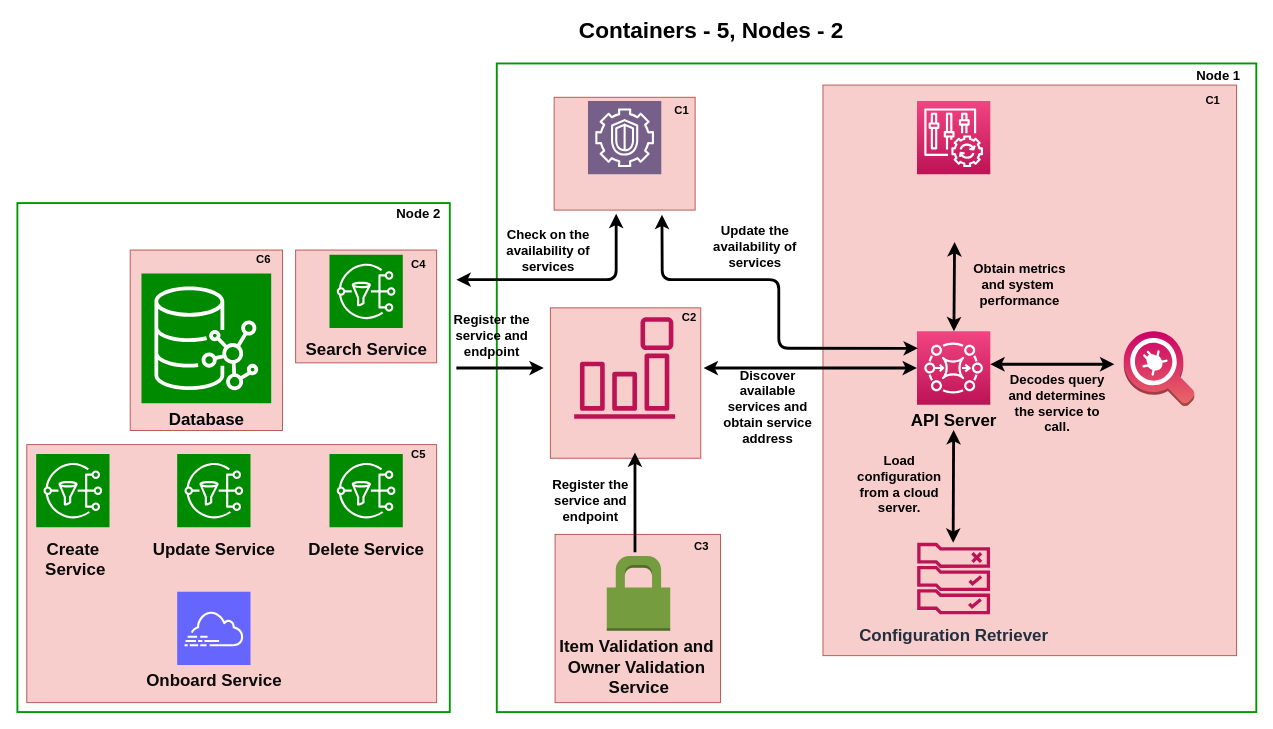
Some shapes in this 1273 by 729 pixel diagram are drawn without their labels. The centre of each missing label's shape, as x and y in pixels:
"Circuit Breaker" belongs at pixel 624 137.
"Metrics and Logging" belongs at pixel 953 137.
"Query Decoder Module" belongs at pixel 1158 368.
"Service Discovery" belongs at pixel 624 367.
